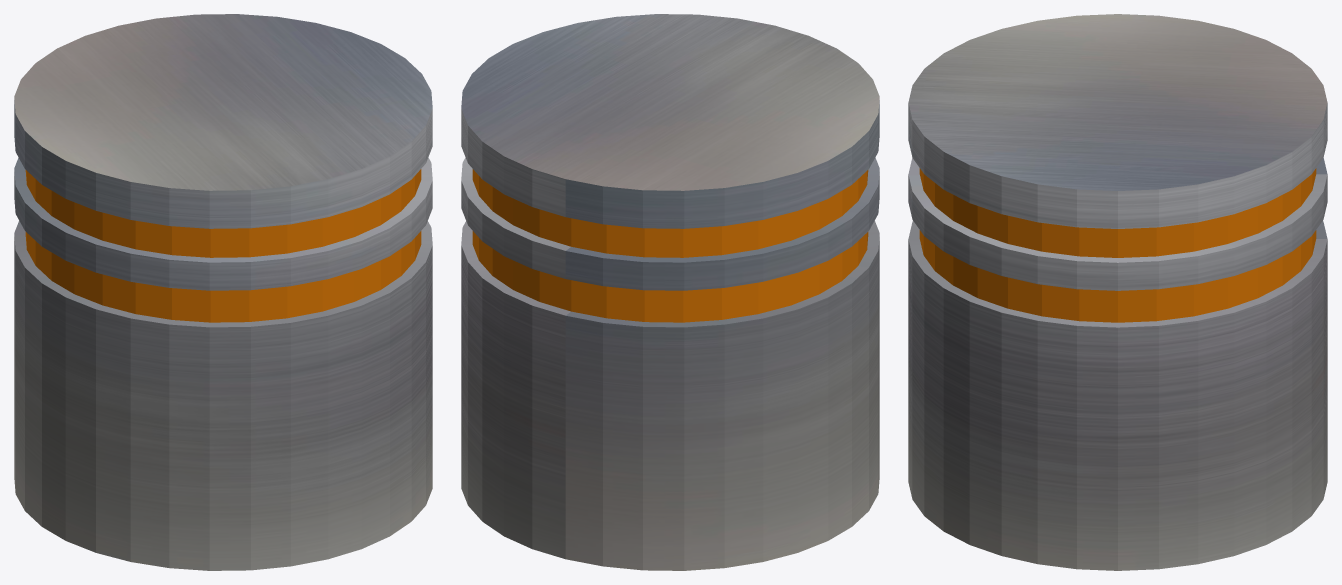
File: steel.fbx
The picture shows the model from 3 angles, left to right: view 1: azimuth 30°, elevation 25°; view 2: azimuth 150°, elevation 25°; view 3: azimuth 270°, elevation 25°; orthographic projection.
Visible parts, largest first — view 1: Сталь, Металл.004; view 2: Сталь, Металл.004; view 3: Сталь, Металл.004.
Part boxes in pixels (x1,y1,x2,y2): Сталь: (14, 14, 432, 570); Металл.004: (25, 169, 421, 322); Сталь: (461, 14, 879, 570); Металл.004: (472, 169, 868, 322); Сталь: (908, 14, 1327, 570); Металл.004: (919, 168, 1316, 322).
Bounding box in the file's own units: 1 × 1 × 1.
Materials: 2 (1 with a texture image).
